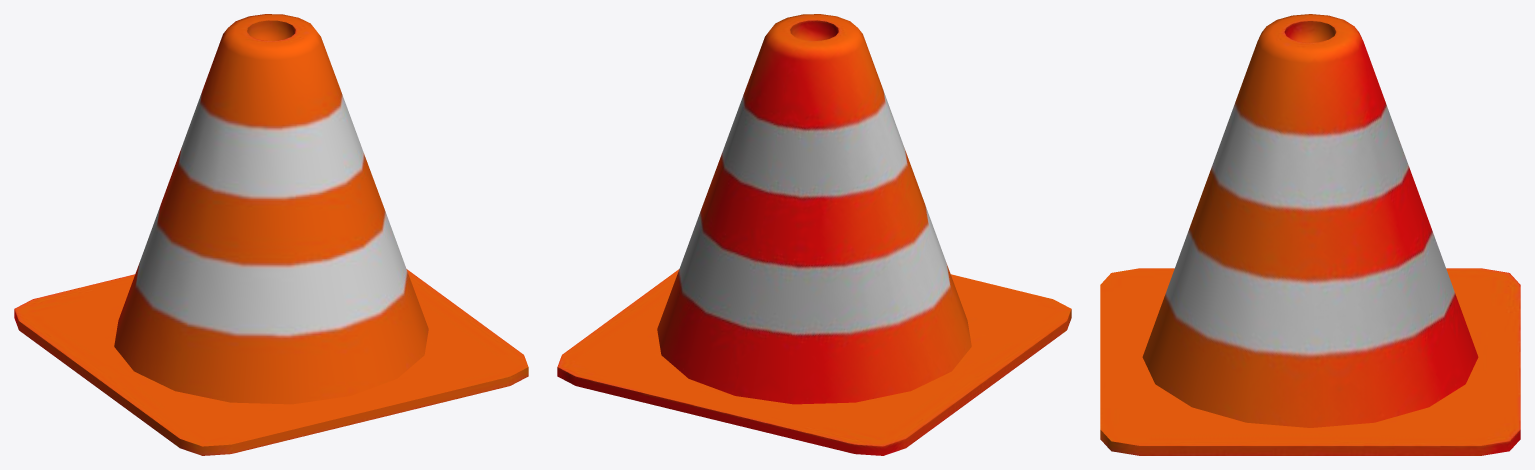
File: traffic-cone.glb
3 renders of one model, left to right at view 1: azimuth 30°, elevation 25°; view 2: azimuth 150°, elevation 25°; view 3: azimuth 270°, elevation 25°, orthographic. The views are drawn at different scales.
Size of the model in its own units: 1 by 0.8793 by 1.
Materials: 1 (1 with a texture image).
